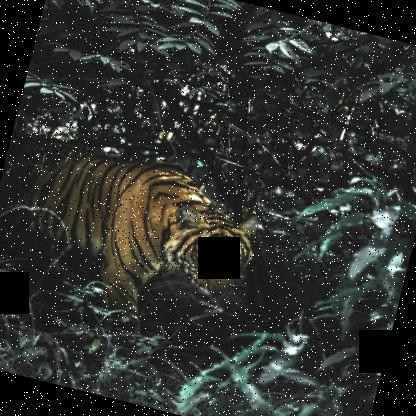Panthera tigris: (0, 129, 271, 353)
